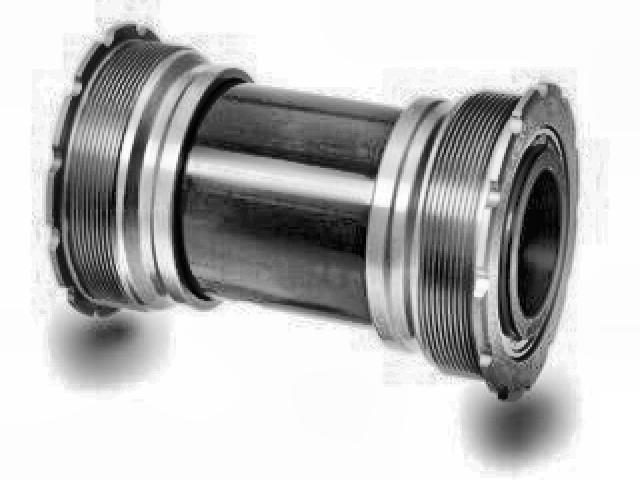bottom_bracket: (42, 16, 585, 401)
